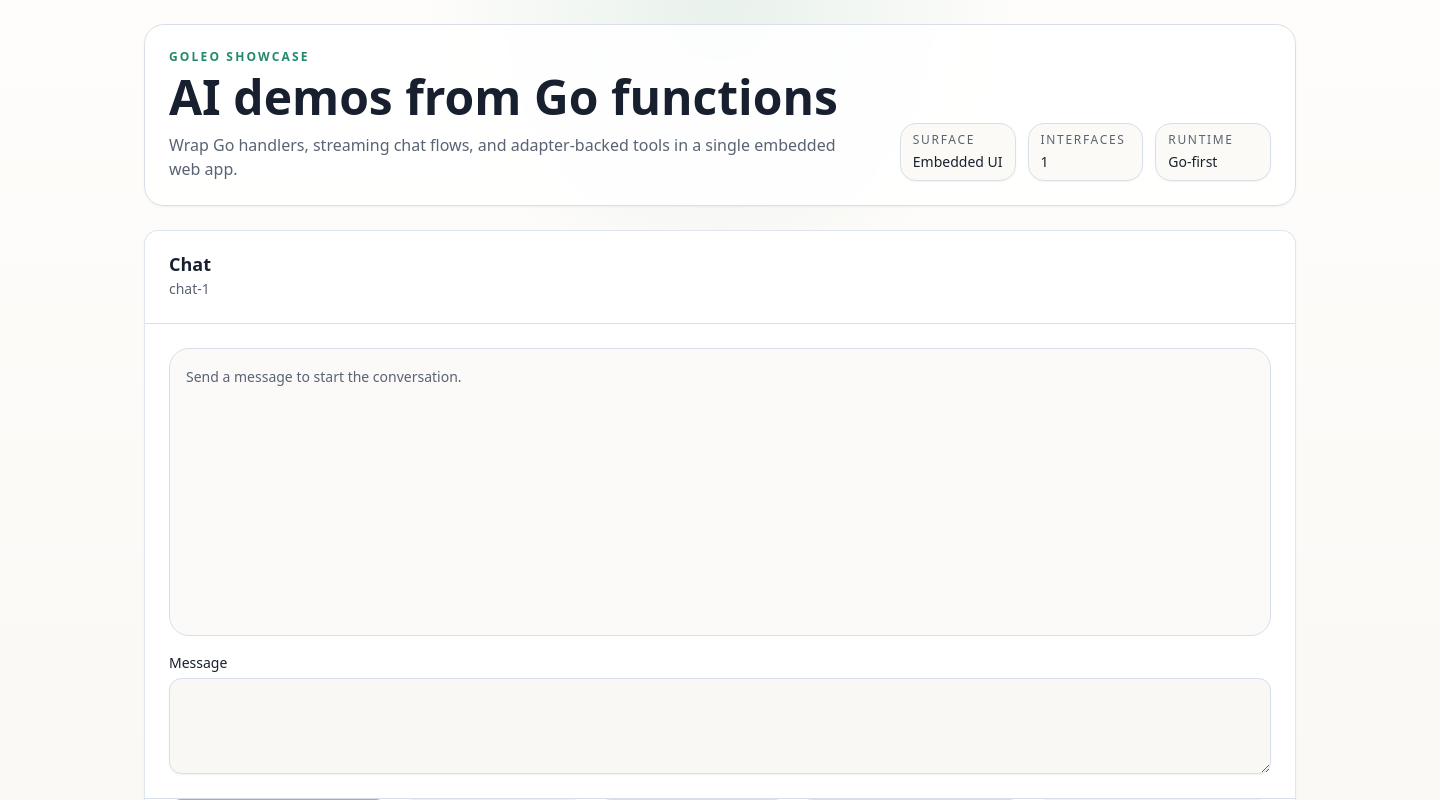
Goleo frontend › keeps streamed chat messages in a transcript
This screenshot has width=1440, height=800.
Type "Hi" into the text box labelled "Message" at (720, 726), box [169, 678, 1271, 774]
Then press Enter
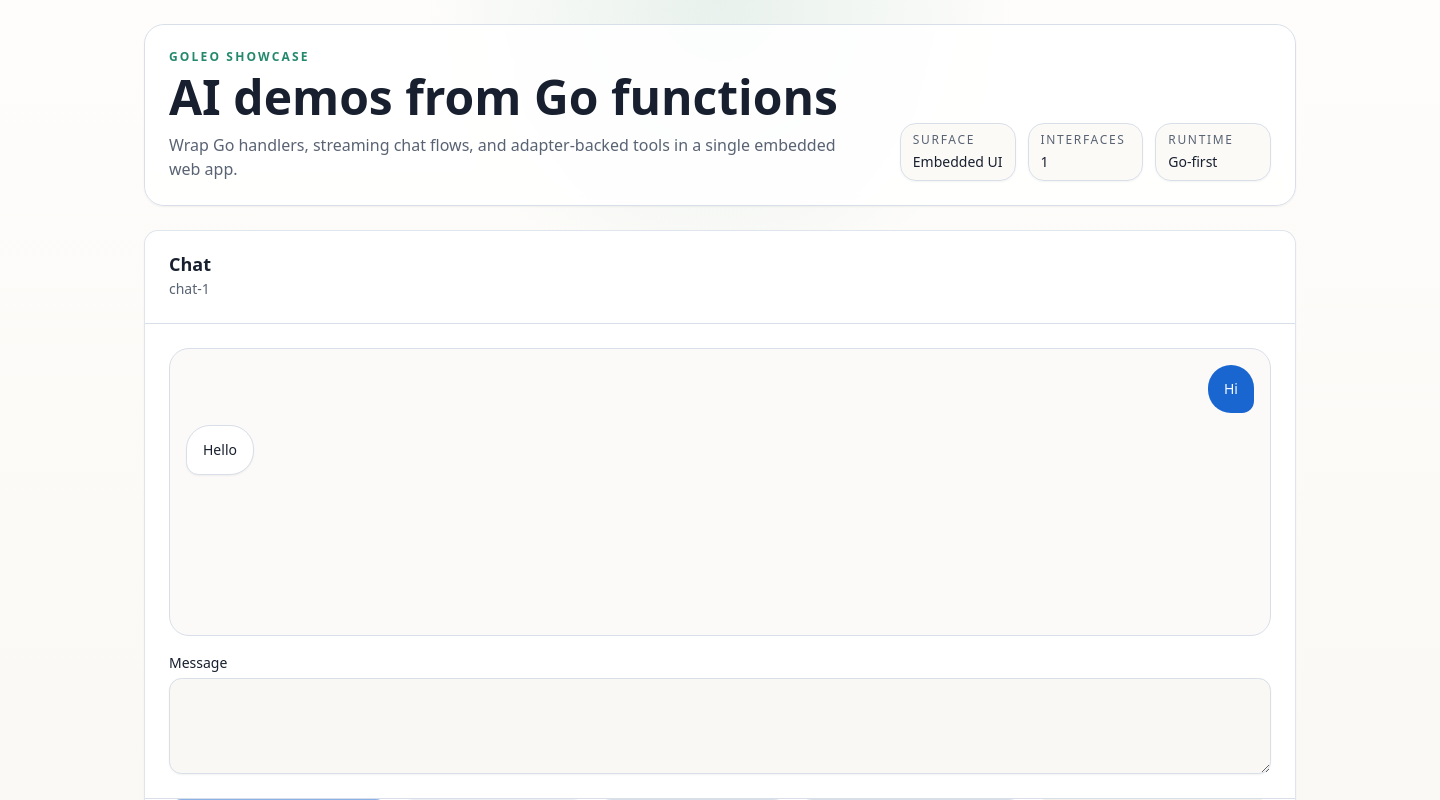
Expected: the text "Hi" is shown, [1208, 365, 1254, 413]
Expected: the text "Hello" is shown, [186, 425, 254, 475]
Expected: the text "Hi" is shown 2 times, [1208, 365, 1254, 413]; [186, 425, 254, 475]
